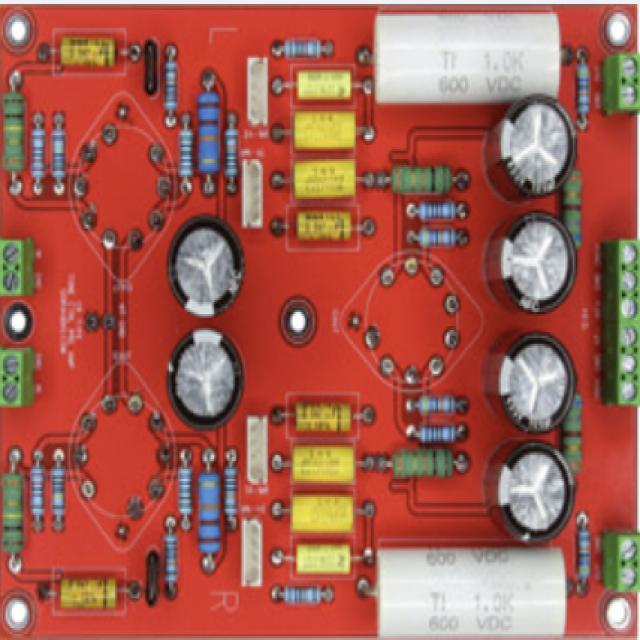Electrolytic capacitor: (484, 208, 578, 322), (482, 436, 572, 554), (484, 91, 576, 204), (484, 334, 576, 438), (168, 213, 247, 319), (164, 331, 244, 432)
resistor: (1, 87, 28, 189), (193, 90, 220, 184), (2, 467, 28, 563), (385, 163, 459, 196), (388, 452, 462, 479), (406, 195, 463, 227), (201, 472, 220, 566), (27, 119, 49, 199), (175, 122, 196, 190), (280, 583, 332, 610), (416, 392, 458, 423), (572, 63, 594, 119), (52, 458, 69, 529), (220, 456, 239, 516), (29, 456, 46, 522), (419, 422, 458, 450), (281, 35, 326, 59), (173, 466, 192, 521), (414, 227, 463, 248), (578, 530, 597, 584), (50, 126, 66, 190), (160, 59, 178, 114), (224, 118, 238, 186), (162, 530, 174, 588)
